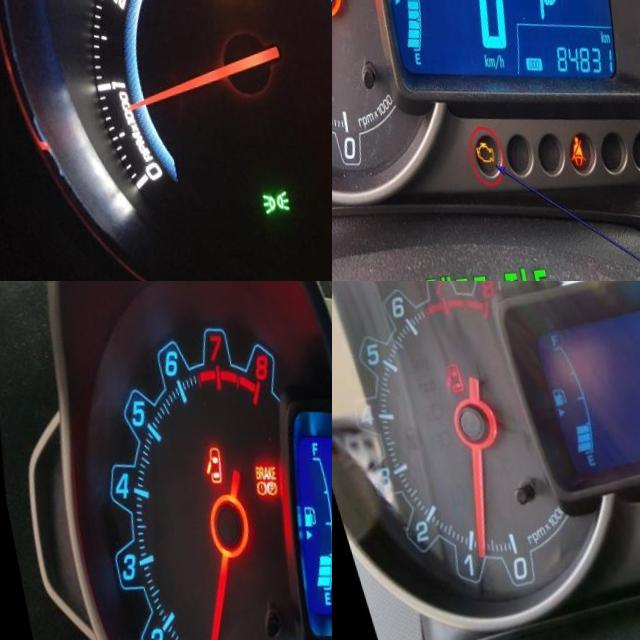Doors: (188, 448, 213, 489), (426, 362, 451, 397)
SideLamp: (238, 196, 269, 222)
